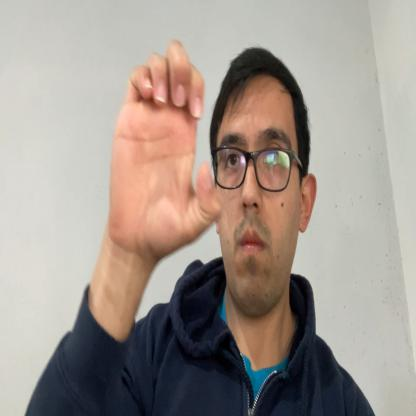E: (108, 39, 221, 256)
